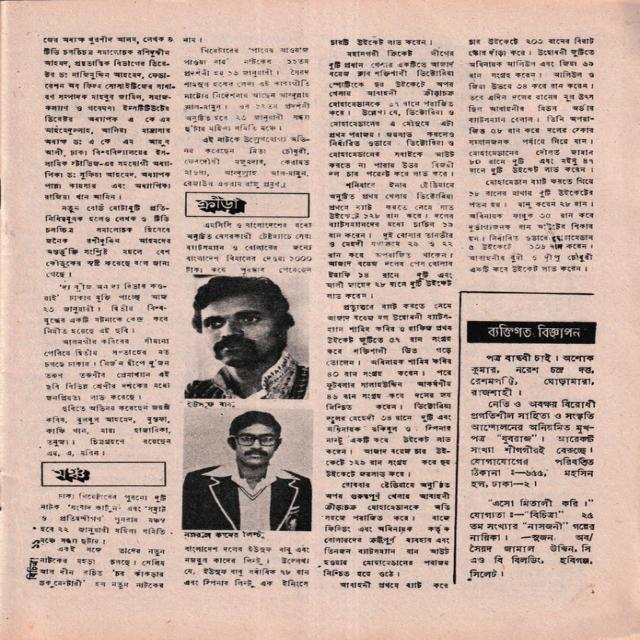caption: (182, 531, 267, 540), (185, 400, 236, 408)
image: (181, 407, 315, 532), (183, 274, 311, 400)
page number: (30, 539, 41, 549)
paragraph: (324, 302, 453, 478), (42, 35, 177, 201), (467, 36, 596, 176), (327, 48, 456, 179), (324, 180, 456, 300), (321, 479, 451, 579), (466, 176, 595, 273), (469, 398, 598, 489), (182, 46, 311, 134), (467, 497, 596, 579), (43, 203, 172, 279), (43, 336, 171, 402), (182, 134, 311, 190), (44, 402, 172, 458), (39, 491, 169, 546), (185, 220, 313, 275), (43, 281, 169, 336), (37, 545, 166, 591), (470, 352, 596, 397), (183, 545, 311, 589), (338, 580, 449, 590), (329, 37, 434, 47), (181, 36, 203, 44)
text: (25, 557, 39, 580)
title: (485, 323, 589, 340), (194, 195, 248, 215), (49, 466, 92, 484)
